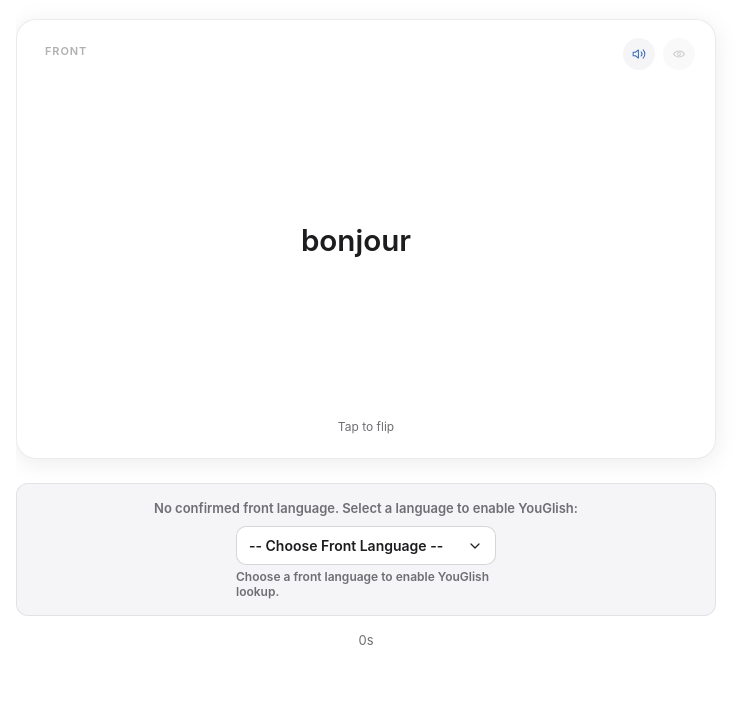
Test: study and practice share the same two-face flip structure
Click the button with aria-label "Flashcard" at (366, 239), box [16,19,716,459]
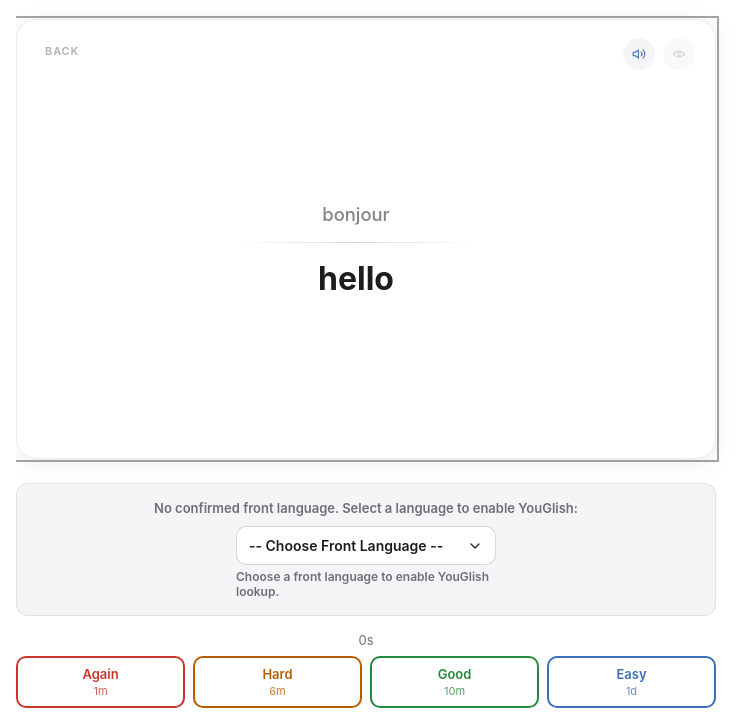
Check: the element named "Rate card" is shown, box [16,656,716,708]
